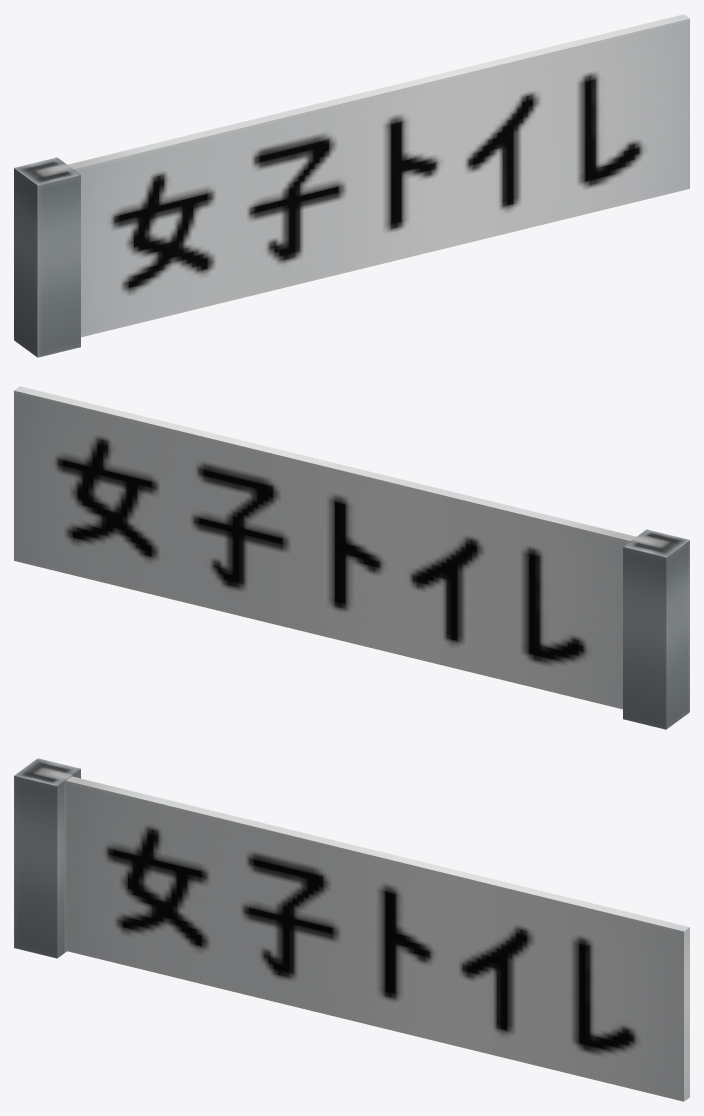
Rendered from SHW_NamePlate_01_Ladies_room01.fbx.
3 renders of one model, top to bottom at view 1: azimuth 30°, elevation 25°; view 2: azimuth 150°, elevation 25°; view 3: azimuth 330°, elevation 25°, orthographic.
Parts seen in each view (by area): view 1: shw_nameplate_01_ladies_room01; view 2: shw_nameplate_01_ladies_room01; view 3: shw_nameplate_01_ladies_room01.
Part boxes in pixels (bbox=[...]): shw_nameplate_01_ladies_room01: bbox=[14, 14, 689, 357]; shw_nameplate_01_ladies_room01: bbox=[14, 386, 689, 729]; shw_nameplate_01_ladies_room01: bbox=[14, 758, 689, 1101].
Bounding box in the file's own units: 32.1 × 8 × 2.
